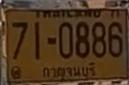0: (58, 21, 72, 58)
1: (34, 22, 39, 58)
6: (108, 21, 122, 56)
7: (11, 21, 28, 59)
8: (75, 21, 89, 57), (92, 21, 106, 57)
KRI: (40, 61, 97, 80)
